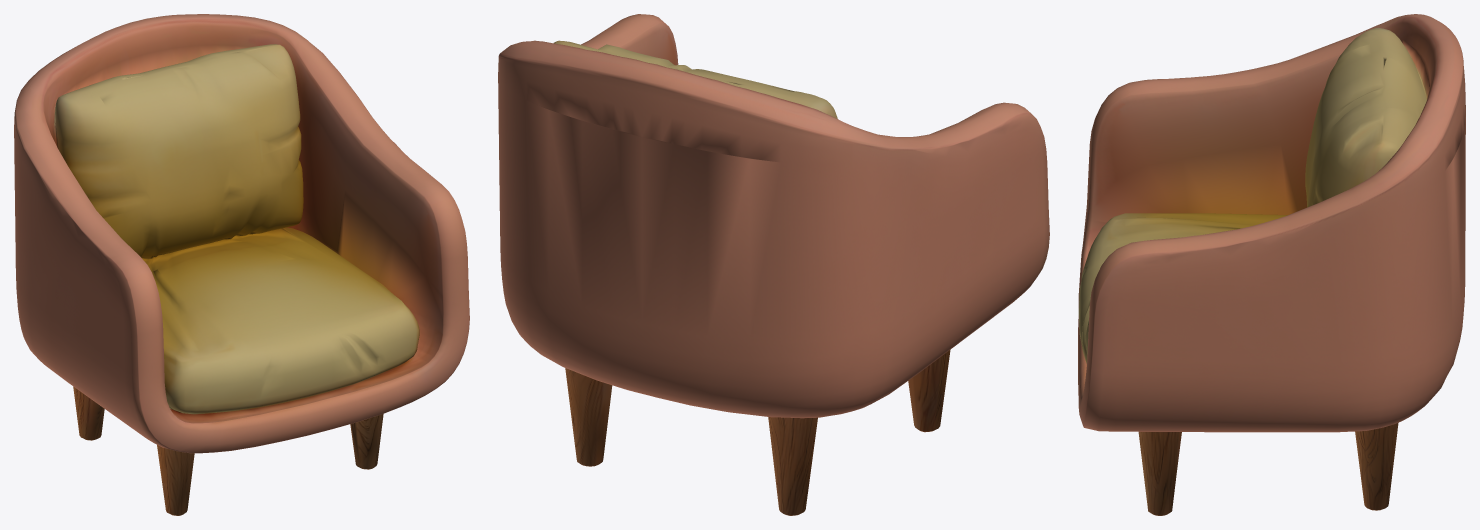
File: SoftChair.fbx
3 views of the same model, side by side, from view 1: azimuth 30°, elevation 25°; view 2: azimuth 150°, elevation 25°; view 3: azimuth 270°, elevation 25° (orthographic). The views are drawn at different scales.
Parts seen in each view (by area): view 1: texture_pbr_v128; view 2: texture_pbr_v128; view 3: texture_pbr_v128.
Boxes of the visible parts, x1=… form: texture_pbr_v128: x1=14, y1=14, x2=469, y2=515; texture_pbr_v128: x1=498, y1=14, x2=1049, y2=515; texture_pbr_v128: x1=1078, y1=14, x2=1465, y2=515.
Size of the model in its own units: 85.68 by 91.26 by 78.8.
1 material, 1 textured.
